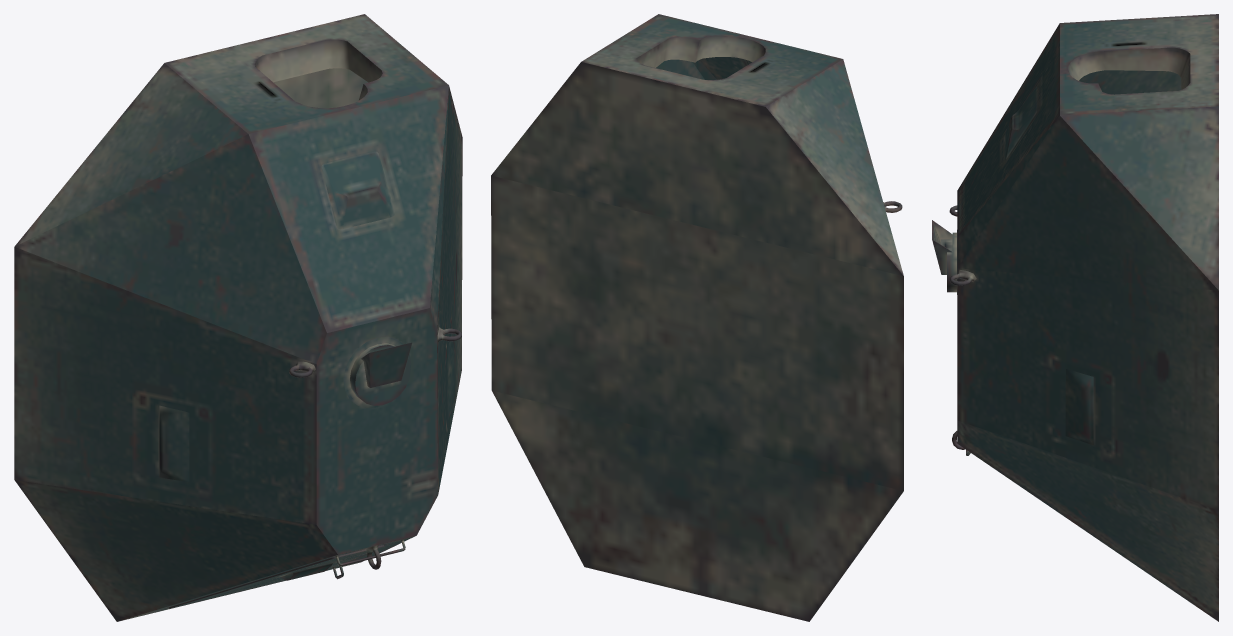
File: Turret_01.glb
The picture shows the model from 3 angles, left to right: view 1: azimuth 30°, elevation 25°; view 2: azimuth 150°, elevation 25°; view 3: azimuth 270°, elevation 25°; orthographic projection. The views are drawn at different scales.
Parts seen in each view (by area): view 1: set_0_group_0; view 2: set_0_group_0; view 3: set_0_group_0.
Part boxes in pixels (x1=…): set_0_group_0: x1=14, y1=14, x2=462, y2=621; set_0_group_0: x1=491, y1=14, x2=903, y2=621; set_0_group_0: x1=932, y1=14, x2=1218, y2=621.
Bounding box in the file's own units: 1.35 × 1.57 × 0.7896.
Materials: 1 (1 with a texture image).
